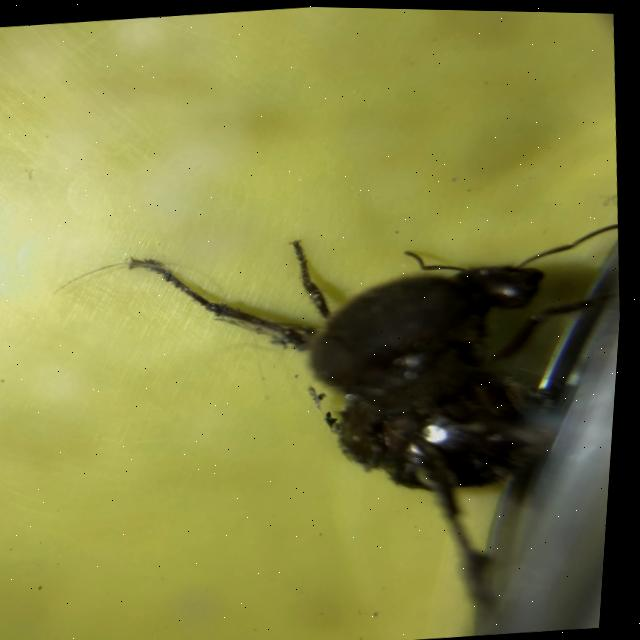Dead-Female-Dealate: (32, 203, 629, 640)
